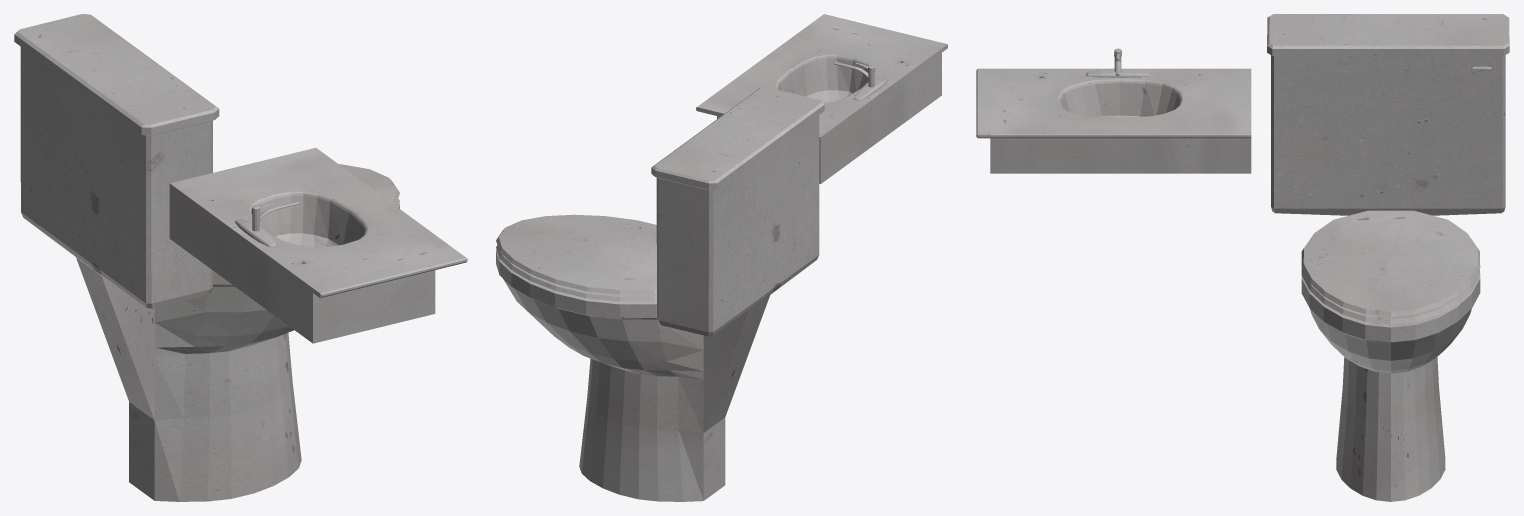
Rendered from toilet_and_sink.fbx.
3 views of the same model, side by side, from view 1: azimuth 30°, elevation 25°; view 2: azimuth 150°, elevation 25°; view 3: azimuth 270°, elevation 25° (orthographic). The views are drawn at different scales.
Visible parts, largest first — view 1: Scene_Root; view 2: Scene_Root; view 3: Scene_Root.
Boxes of the visible parts, x1=… form: Scene_Root: x1=14, y1=14, x2=467, y2=501; Scene_Root: x1=496, y1=14, x2=947, y2=501; Scene_Root: x1=976, y1=14, x2=1509, y2=501.
Bounding box in the file's own units: 131 × 171 × 211.
